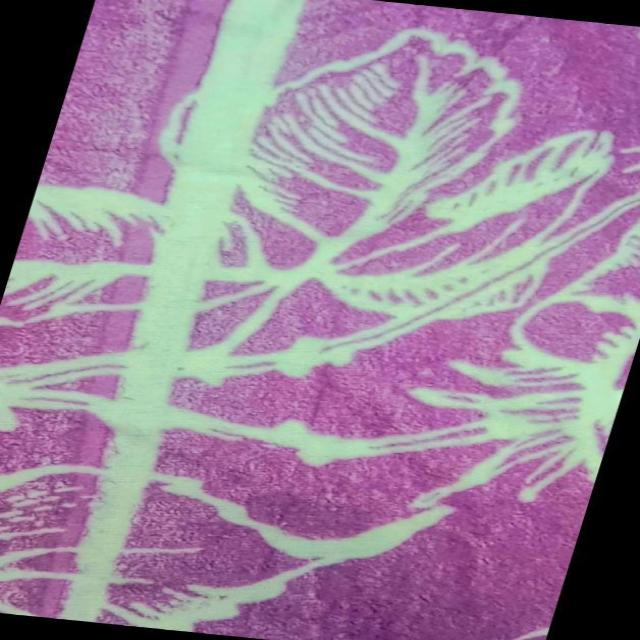selvet: (24, 0, 309, 624)
